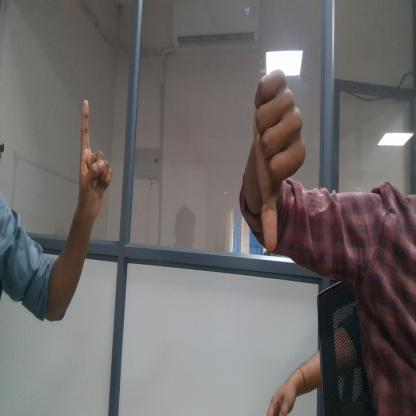Thumbs Down: (250, 72, 302, 255)
Up: (76, 81, 110, 215)
